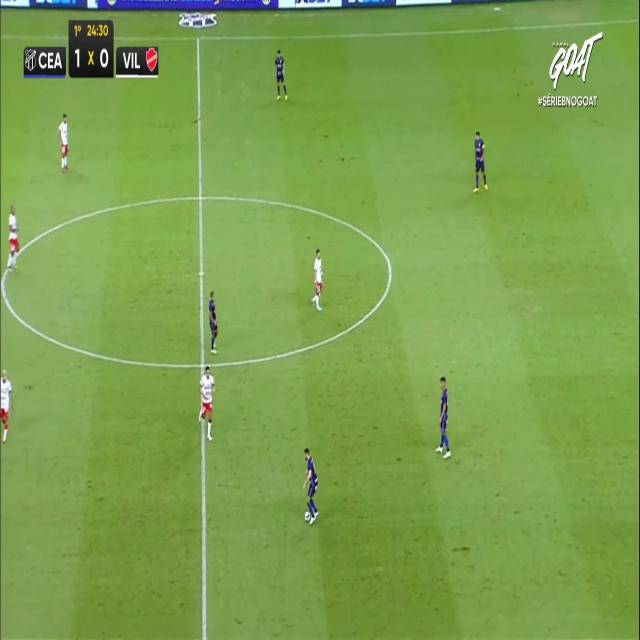ball: (302, 508, 312, 523)
player: (198, 364, 215, 441), (303, 446, 318, 523), (436, 377, 450, 457), (0, 368, 12, 442), (6, 204, 19, 269), (474, 130, 487, 192), (310, 248, 323, 310), (274, 48, 287, 100), (208, 290, 217, 354), (58, 113, 68, 170)
